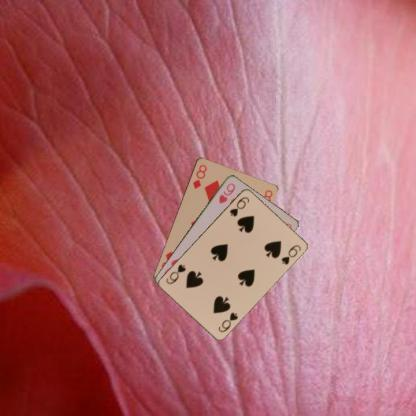6s: (216, 310, 240, 334), (228, 194, 250, 218)
8d: (190, 162, 208, 190)
9h: (216, 180, 236, 205)
